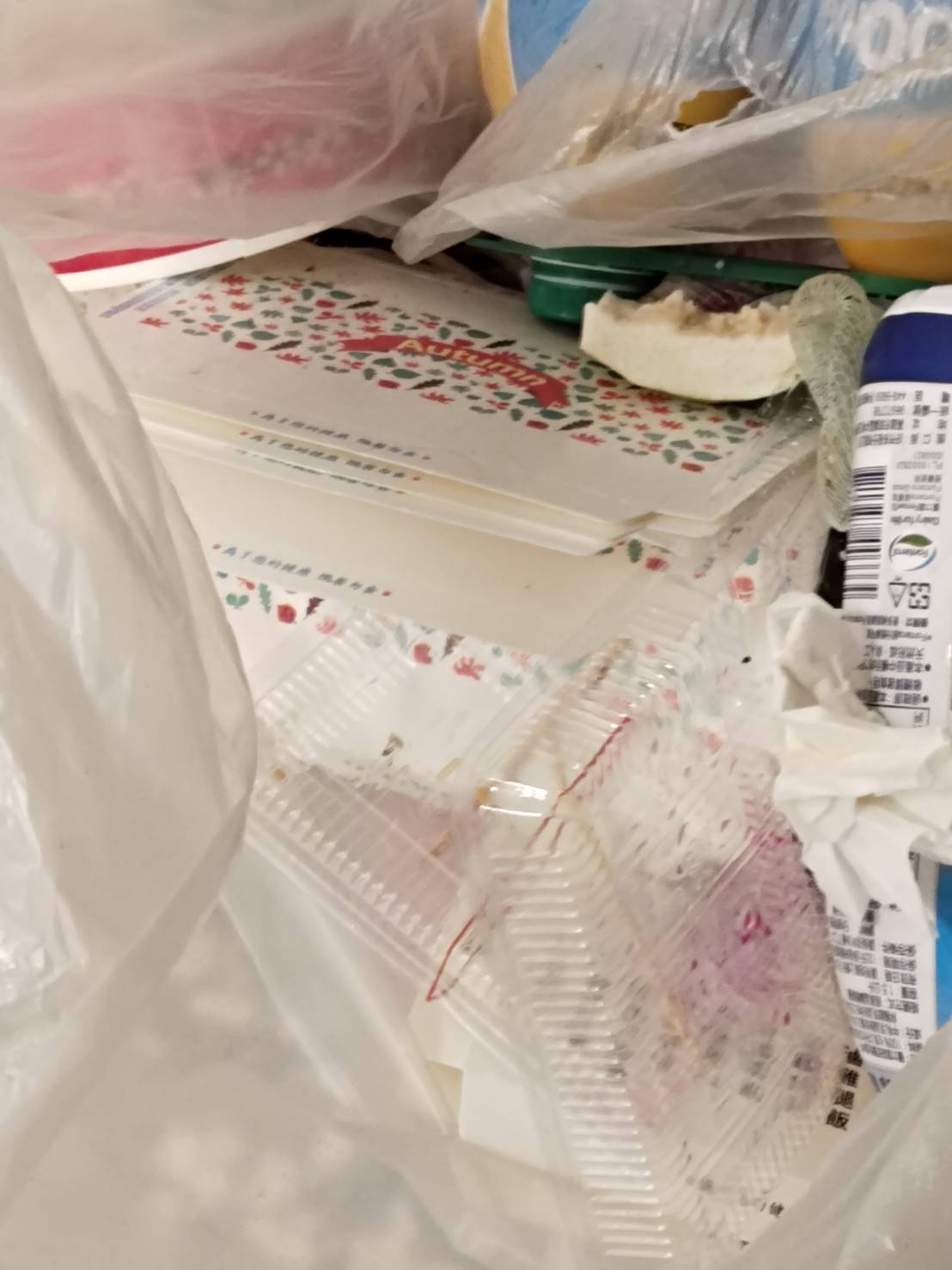paper: (22, 183, 891, 665)
plastic: (165, 556, 940, 1263), (797, 265, 952, 1096)
